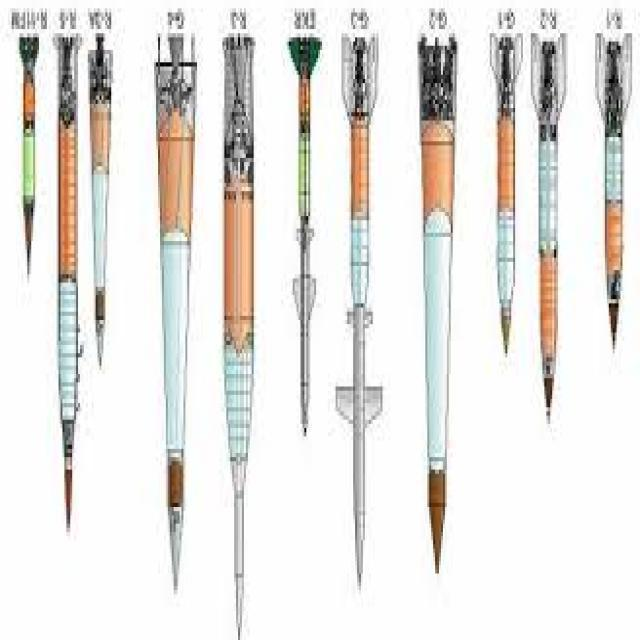Missile: (415, 31, 467, 595), (220, 26, 260, 631), (529, 15, 566, 427), (489, 27, 524, 352), (597, 17, 631, 351), (85, 36, 118, 380), (11, 27, 43, 286)
